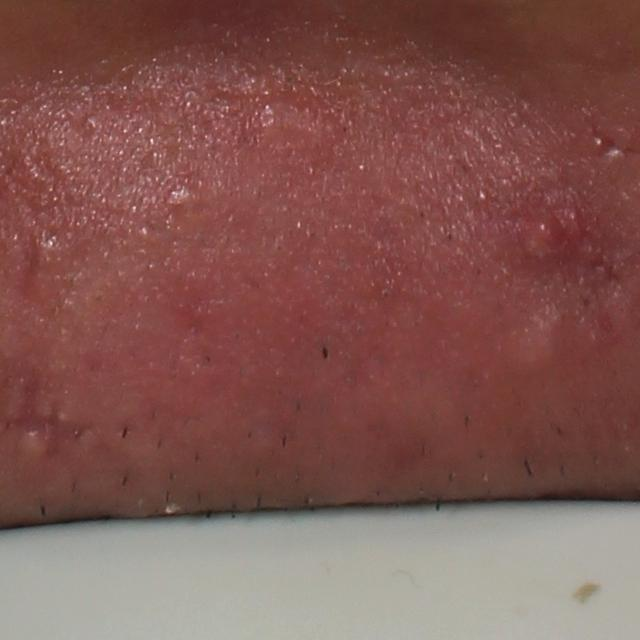atrophic_scar: (2, 372, 90, 459), (16, 233, 46, 308)
hypertrophic_scar: (499, 301, 574, 373), (14, 429, 50, 461)
papule: (506, 192, 605, 274)
